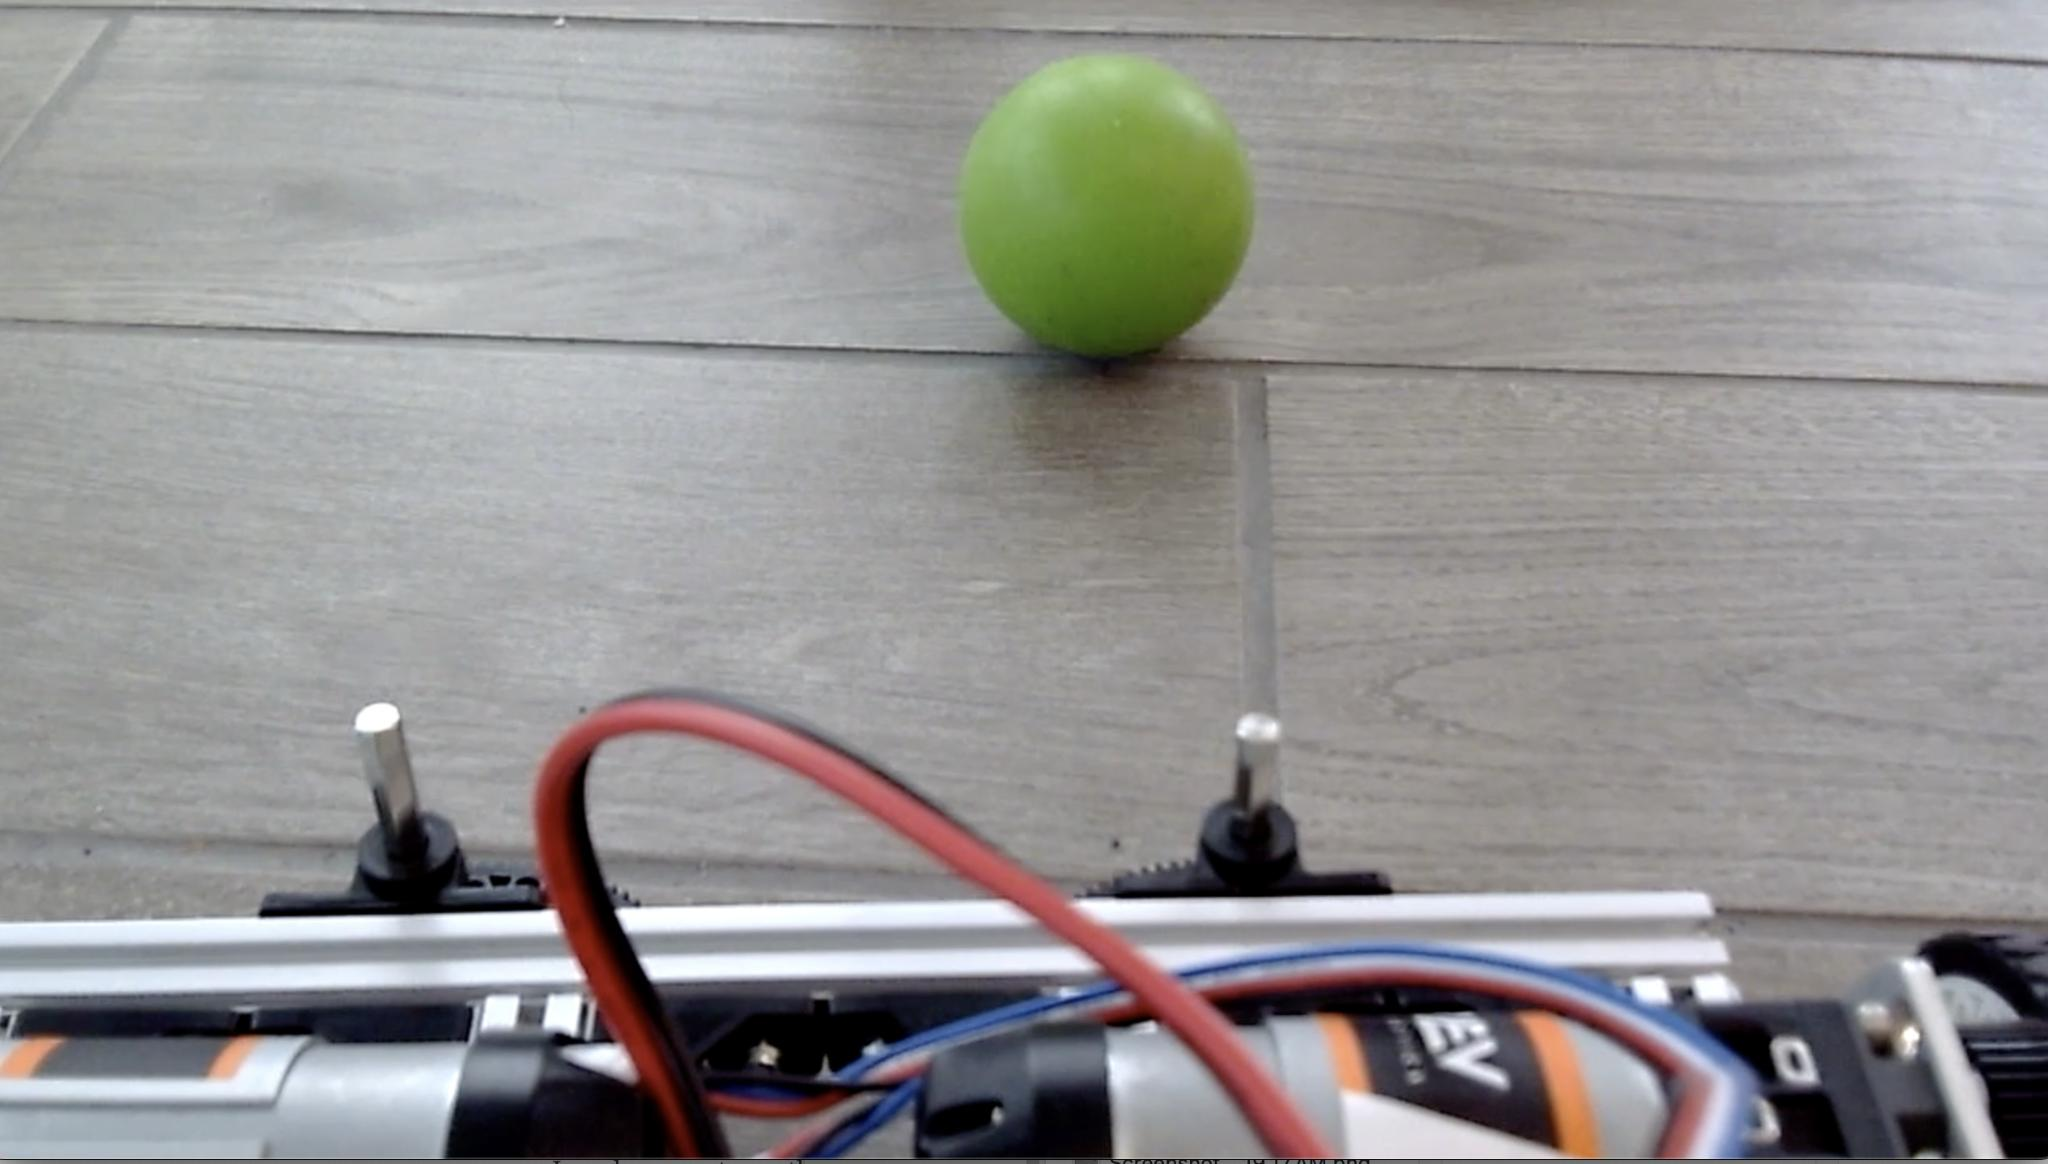greenball: (955, 49, 1256, 361)
